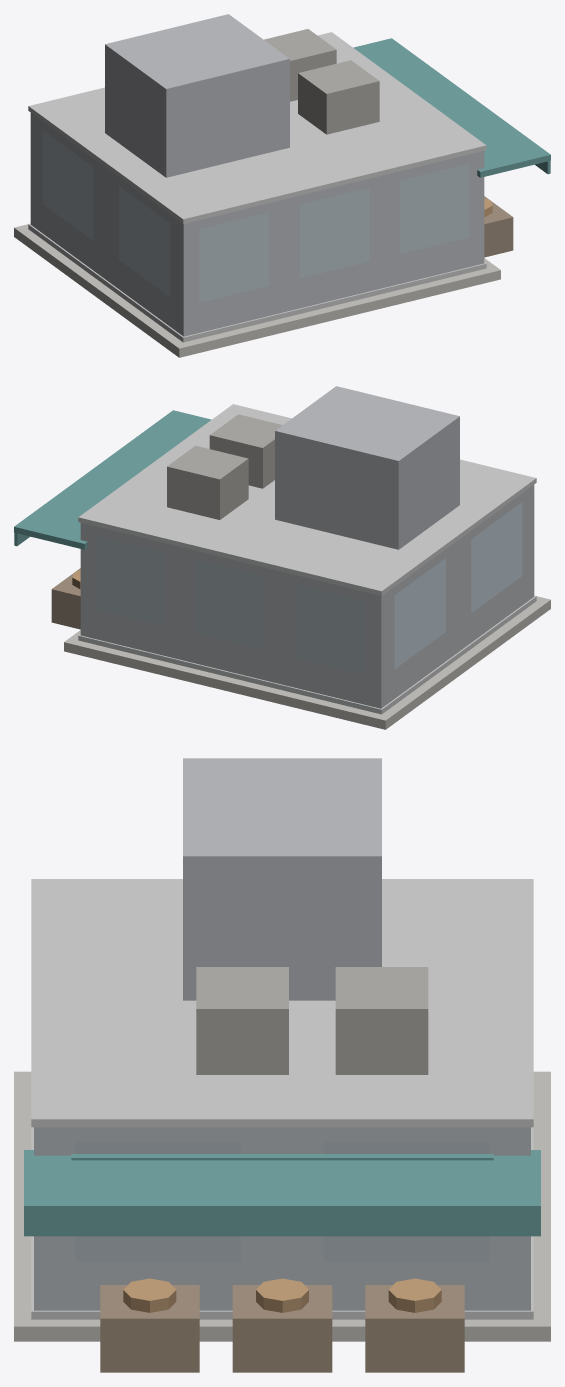
File: 12_food_market-05.glb
3 views of the same model, one above another, from view 1: azimuth 30°, elevation 25°; view 2: azimuth 150°, elevation 25°; view 3: azimuth 270°, elevation 25° (orthographic). The views are drawn at different scales.
Bounding box in the file's own units: 10.6 × 5.98 × 8.1.
